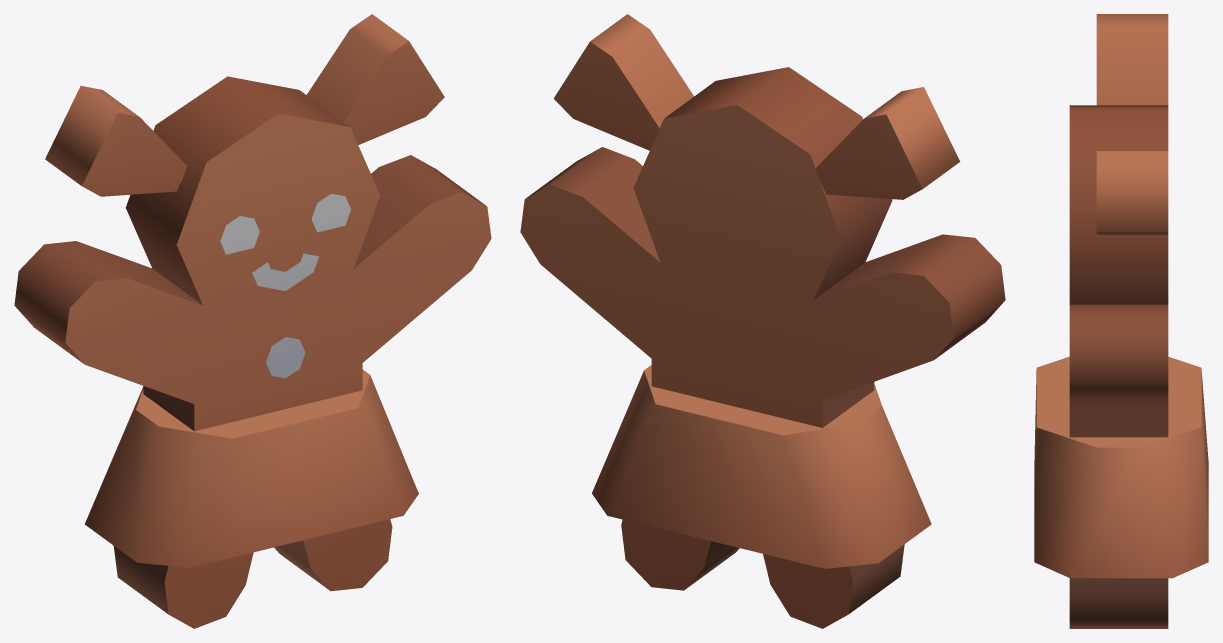
File: gingerbread-woman.glb
3 renders of one model, left to right at view 1: azimuth 30°, elevation 25°; view 2: azimuth 150°, elevation 25°; view 3: azimuth 270°, elevation 25°, orthographic. The views are drawn at different scales.
Parts seen in each view (by area): view 1: gingerbread-woman, Group; view 2: gingerbread-woman, Group; view 3: gingerbread-woman, Group.
Part boxes in pixels (left/top/right/bottom): gingerbread-woman: left=14, top=14, right=491, bottom=628; Group: left=84, top=369, right=418, bottom=567; gingerbread-woman: left=520, top=14, right=1005, bottom=628; Group: left=592, top=365, right=931, bottom=568; gingerbread-woman: left=1069, top=14, right=1168, bottom=628; Group: left=1034, top=356, right=1208, bottom=578.
Size of the model in its own units: 0.3393 by 0.397 by 0.1237.
